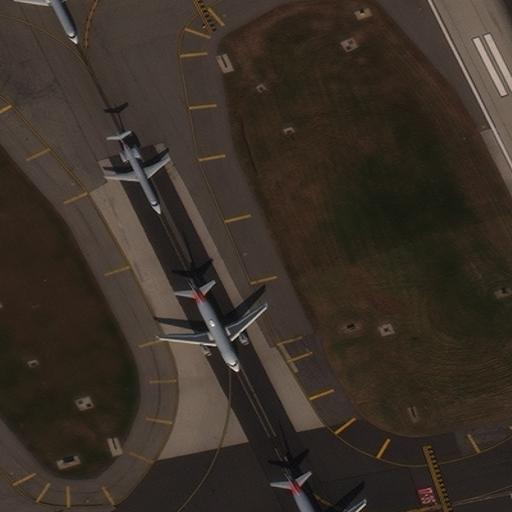Medium Civil Transport: (156, 284, 266, 371), (103, 135, 167, 211), (266, 471, 365, 512), (11, 0, 80, 43)
